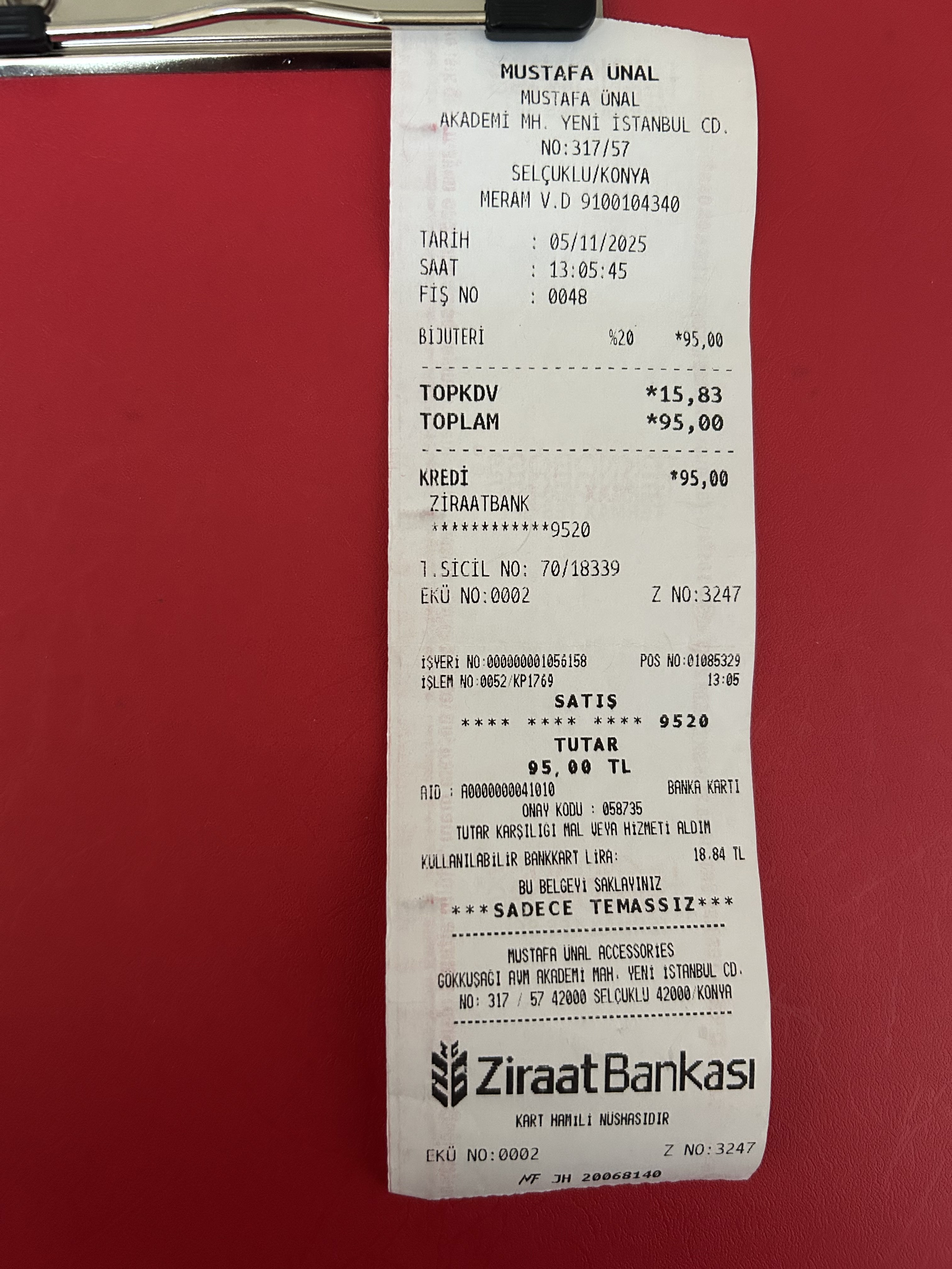date: (657, 405, 731, 439)
price: (544, 224, 652, 257)
workplace: (431, 56, 735, 189)
